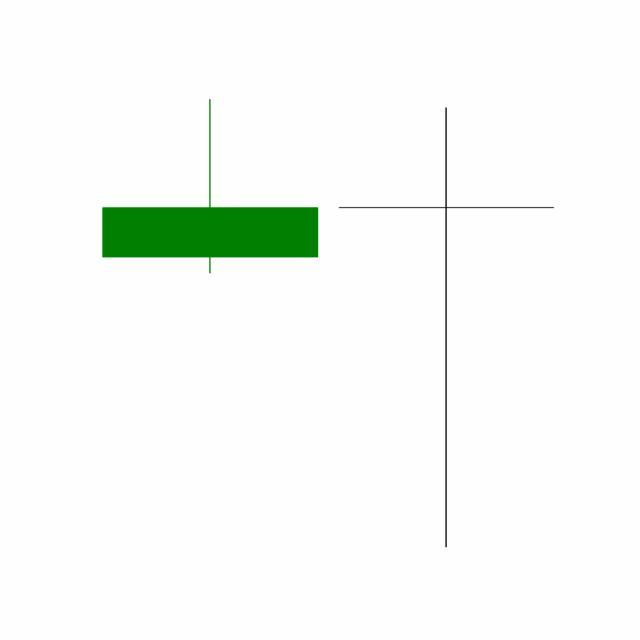Spinning Top: (328, 103, 566, 553)
